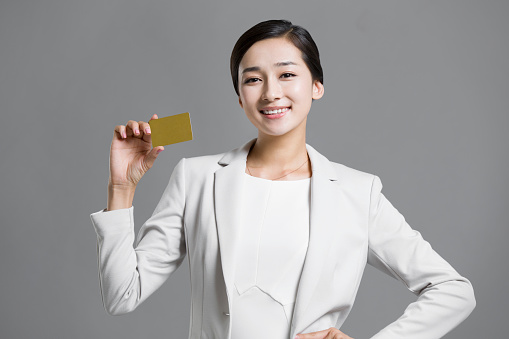em pe: (93, 8, 483, 339)
